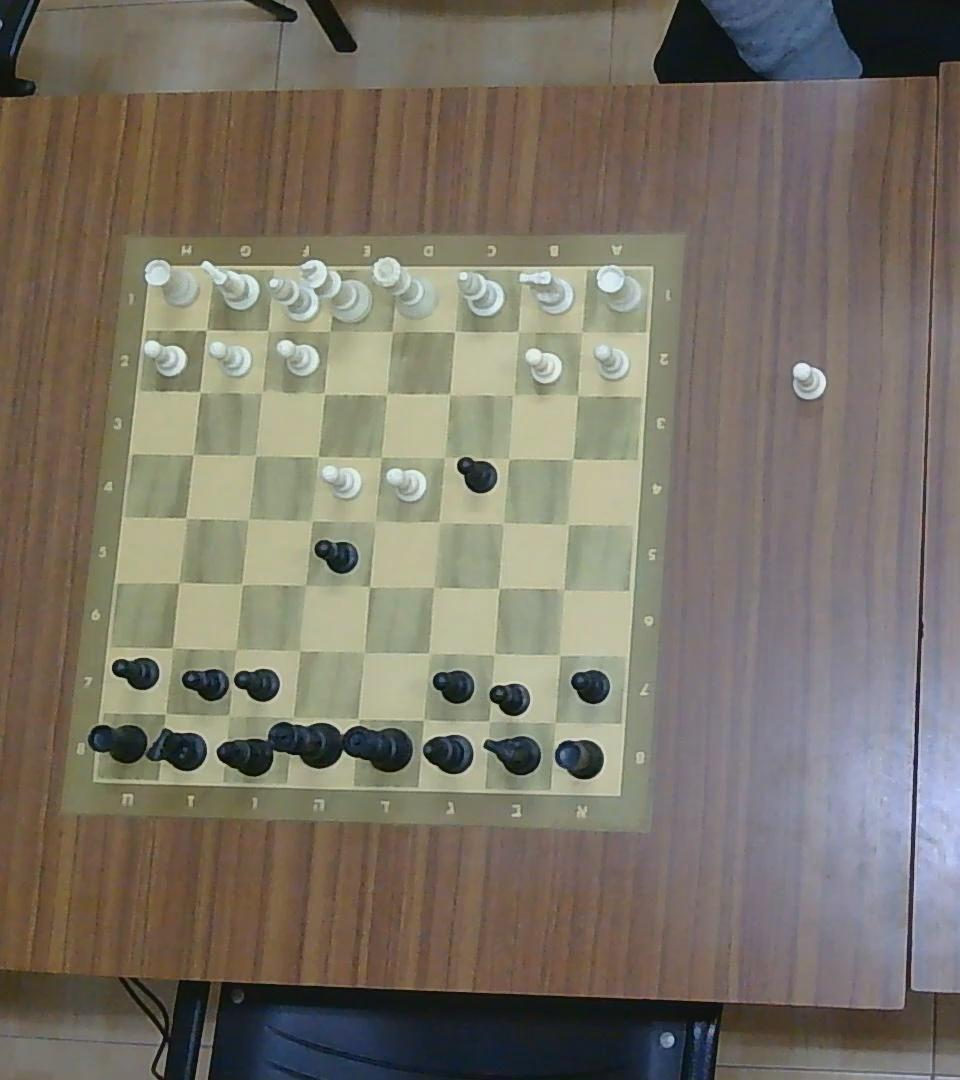xcorner: (277, 702, 303, 731), (346, 707, 370, 729), (155, 703, 176, 723), (543, 712, 564, 731), (366, 511, 385, 531), (320, 321, 339, 340), (170, 572, 188, 591), (177, 508, 195, 527), (440, 384, 459, 402), (290, 642, 309, 660), (414, 711, 433, 729), (480, 711, 499, 729), (296, 576, 314, 594), (429, 512, 447, 530), (219, 706, 237, 724), (505, 385, 522, 404), (435, 448, 453, 465), (315, 384, 333, 401), (371, 448, 388, 466), (377, 384, 394, 402), (303, 512, 320, 530), (309, 446, 326, 464), (226, 640, 243, 658), (355, 644, 373, 661), (164, 639, 182, 656), (555, 580, 573, 597), (500, 450, 517, 467), (446, 322, 463, 339), (495, 514, 512, 531), (383, 322, 400, 339), (424, 578, 441, 595), (484, 646, 501, 663), (184, 445, 200, 462), (362, 578, 378, 595), (560, 516, 577, 532), (248, 447, 264, 464), (260, 322, 276, 339), (551, 646, 567, 663), (490, 580, 506, 597), (241, 511, 257, 527), (254, 383, 270, 399), (198, 320, 213, 337), (573, 323, 590, 338), (421, 645, 438, 660), (565, 451, 581, 466), (234, 576, 250, 591), (569, 387, 585, 402), (510, 323, 525, 338), (192, 383, 206, 399)
